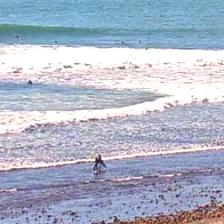surfer: (28, 80, 34, 85), (121, 41, 125, 46), (138, 40, 141, 44), (54, 41, 58, 44), (145, 48, 148, 51), (16, 36, 20, 38)
